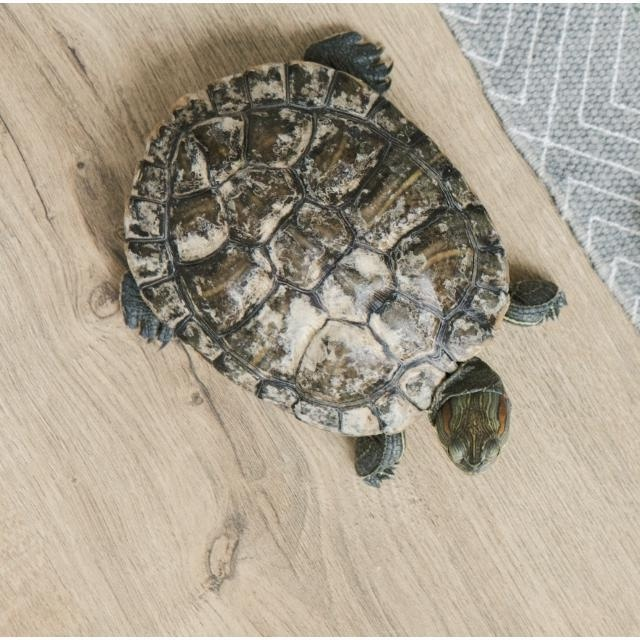turtle: (122, 27, 566, 489)
